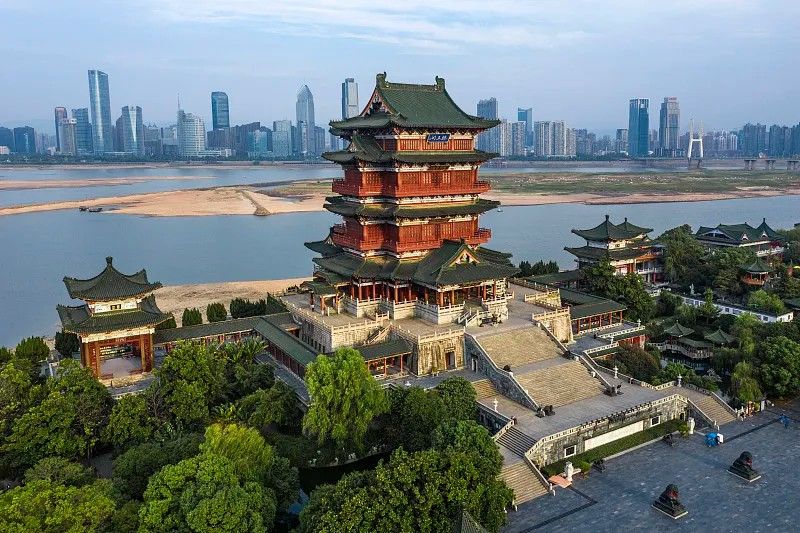Teng: (301, 71, 524, 321)
